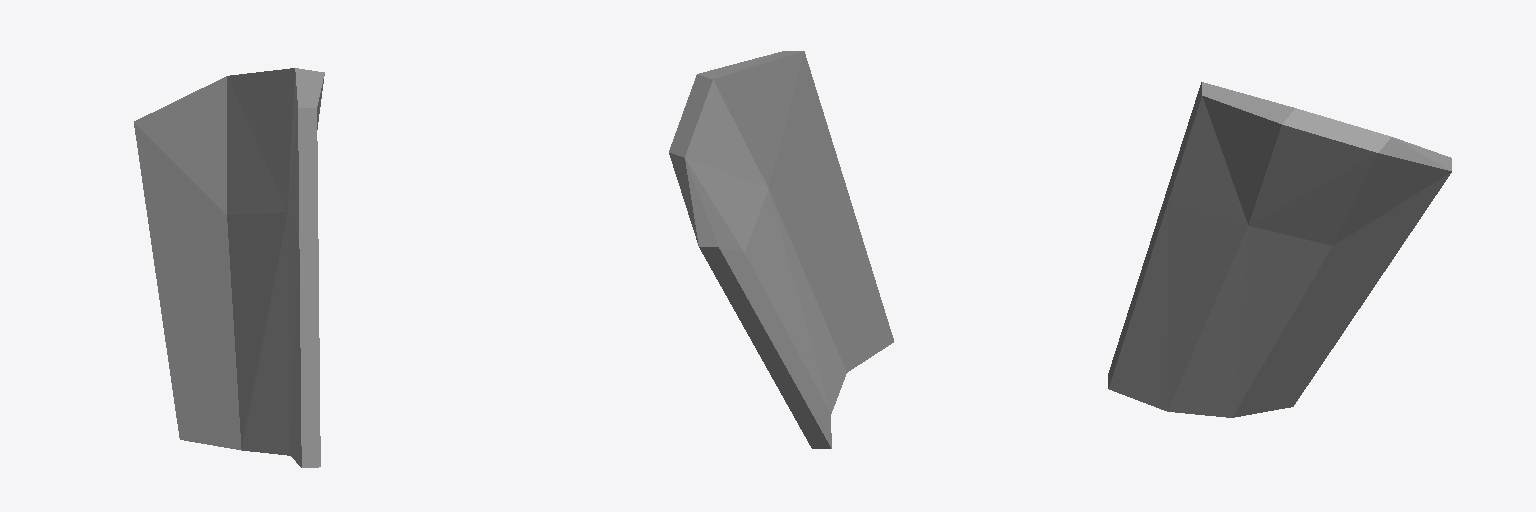
The model's file is RogueGuard.obj.
The picture shows the model from 3 angles: view 1: azimuth 30°, elevation 25°; view 2: azimuth 150°, elevation 25°; view 3: azimuth 270°, elevation 25°; orthographic projection.
Visible parts, largest first — view 1: RogueGuard; view 2: RogueGuard; view 3: RogueGuard.
Part boxes in pixels (x1,y1,x2,y2): RogueGuard: (134,68,324,467); RogueGuard: (669,51,893,448); RogueGuard: (1108,82,1451,417).
Bounding box in the file's own units: 0.1164 × 0.2791 × 0.2481.